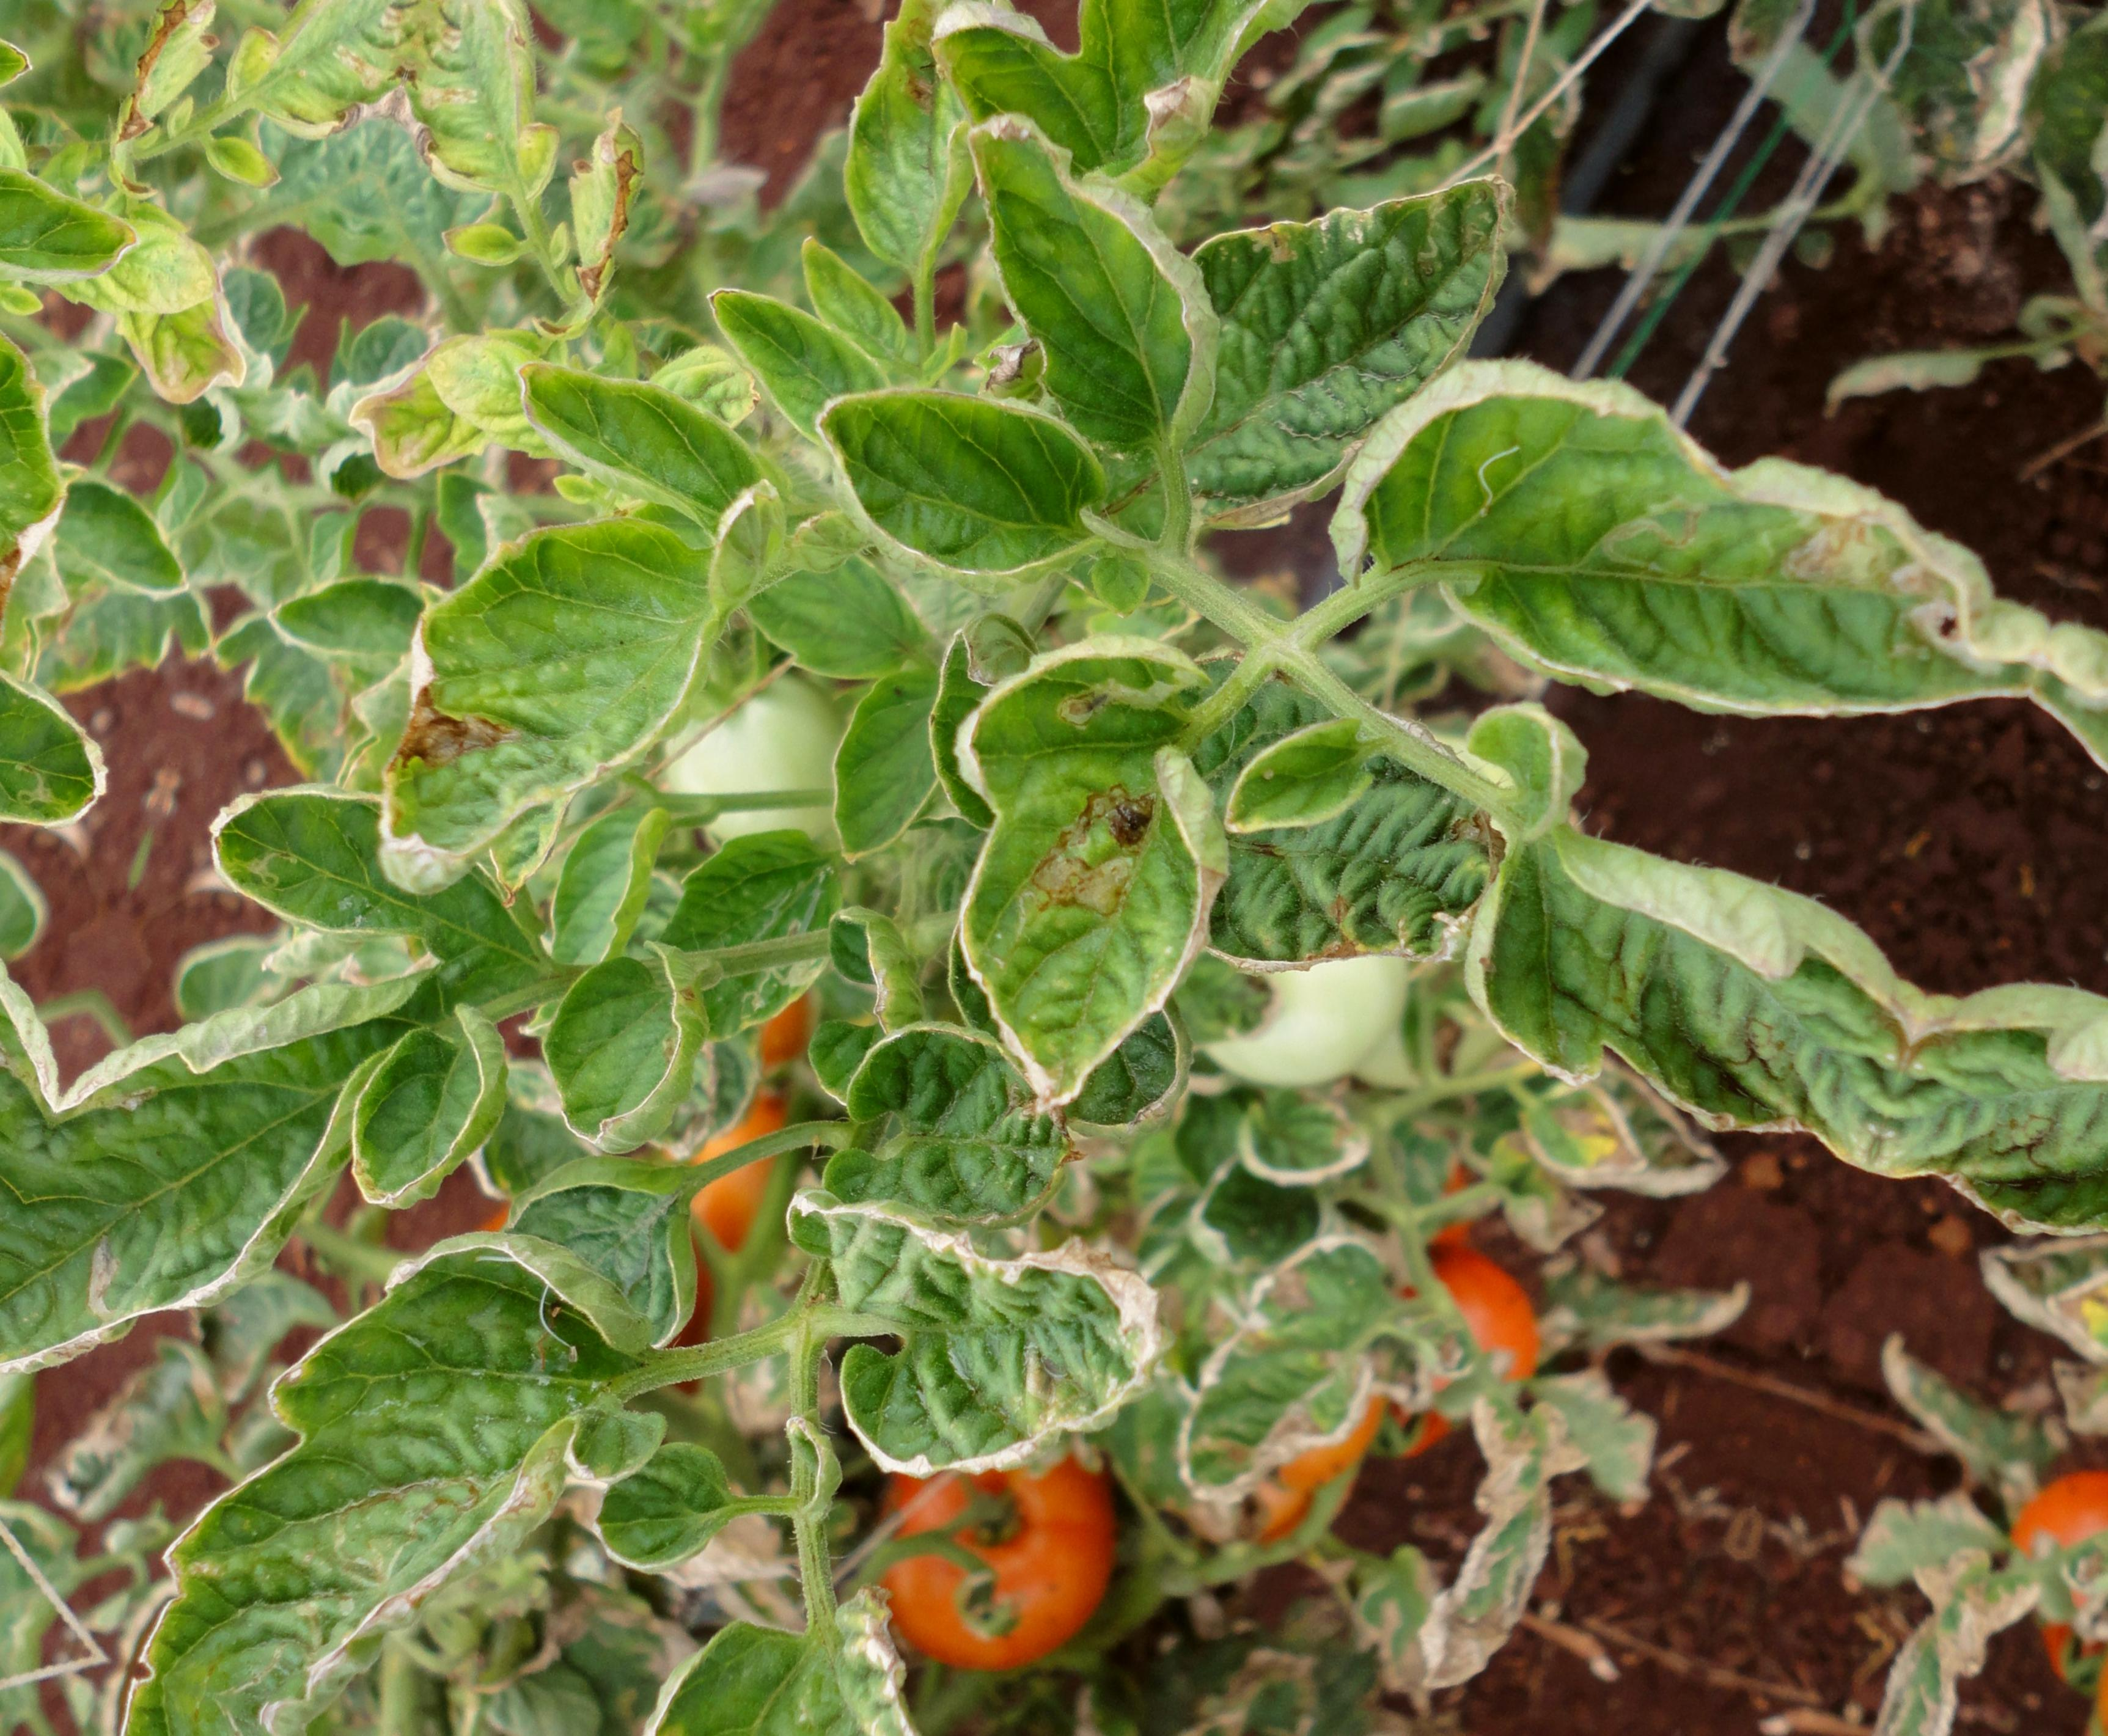Tomato leaf yellow virus: (0, 724, 636, 1577), (1283, 275, 2090, 833), (291, 282, 882, 1004), (1352, 667, 1984, 1288), (116, 1116, 643, 1736), (772, 560, 1285, 1155), (702, 1136, 1324, 1615), (860, 0, 1527, 297), (870, 16, 1287, 464), (760, 259, 1156, 632), (594, 1543, 1215, 1736)
